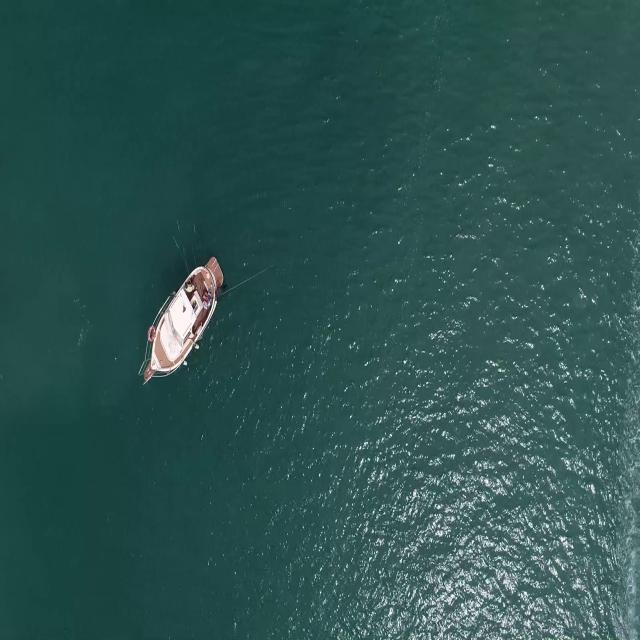boat: (138, 257, 224, 378)
life_buoy: (148, 320, 158, 343)
person: (183, 279, 200, 292), (201, 298, 212, 314)
